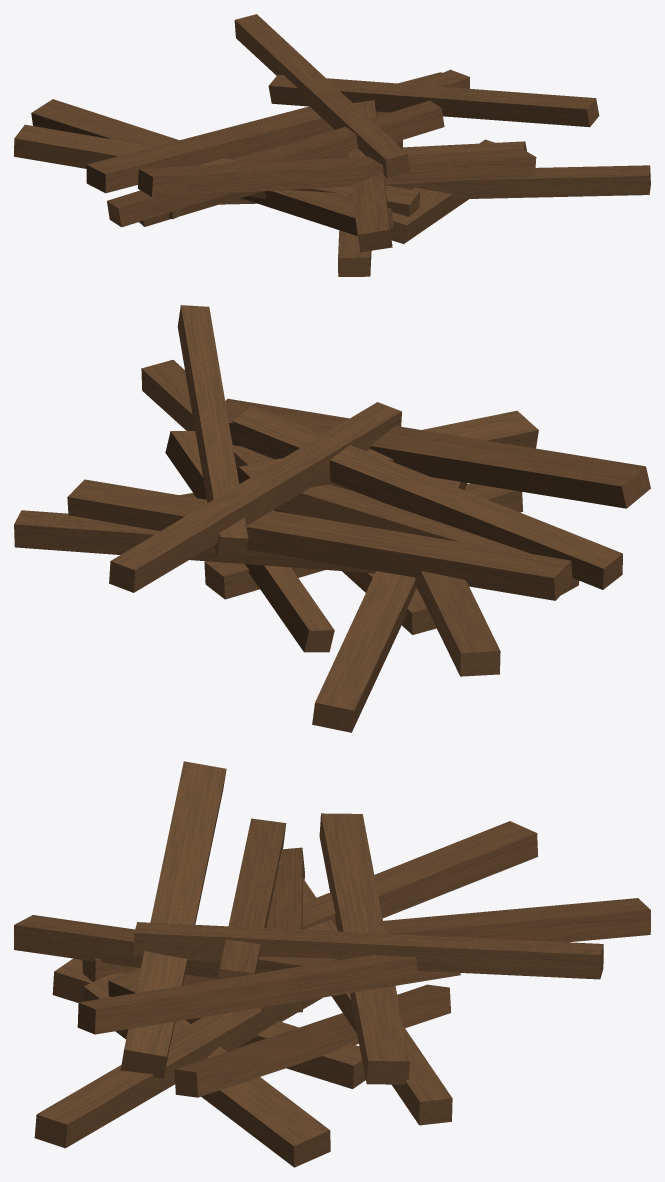
Rendered from en-002_broken_plank_pile__large.obj.
The picture shows the model from 3 angles, top to bottom: view 1: azimuth 30°, elevation 25°; view 2: azimuth 150°, elevation 25°; view 3: azimuth 270°, elevation 25°; orthographic projection. The views are drawn at different scales.
Parts seen in each view (by area): view 1: en-002_broken_plank_pile__large; view 2: en-002_broken_plank_pile__large; view 3: en-002_broken_plank_pile__large.
Part boxes in pixels (x1=…): en-002_broken_plank_pile__large: x1=14, y1=14, x2=650, y2=276; en-002_broken_plank_pile__large: x1=14, y1=305, x2=650, y2=732; en-002_broken_plank_pile__large: x1=14, y1=761, x2=650, y2=1167.
Size of the model in its own units: 2.09 by 0.5441 by 1.95.
1 material, 1 textured.
